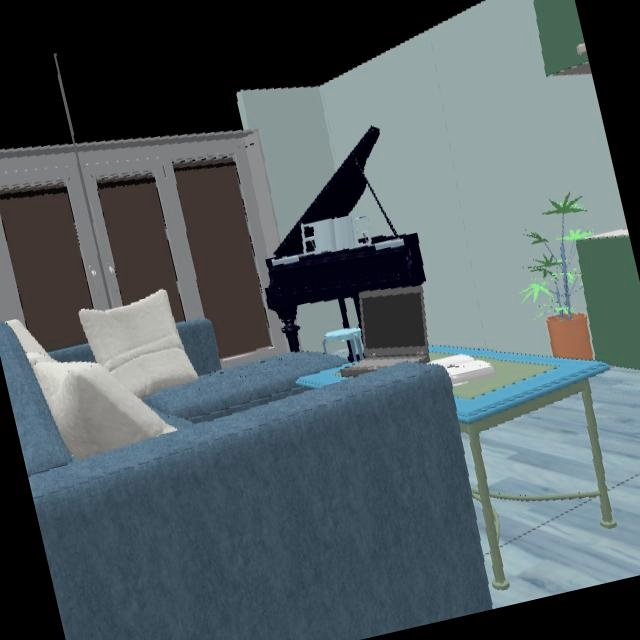book: (430, 347, 497, 397)
cabinet: (575, 230, 640, 372), (533, 0, 592, 78)
laptop: (337, 286, 430, 377)
pillow: (5, 289, 199, 460)
sofa: (0, 319, 492, 640)
table: (433, 347, 608, 469)
